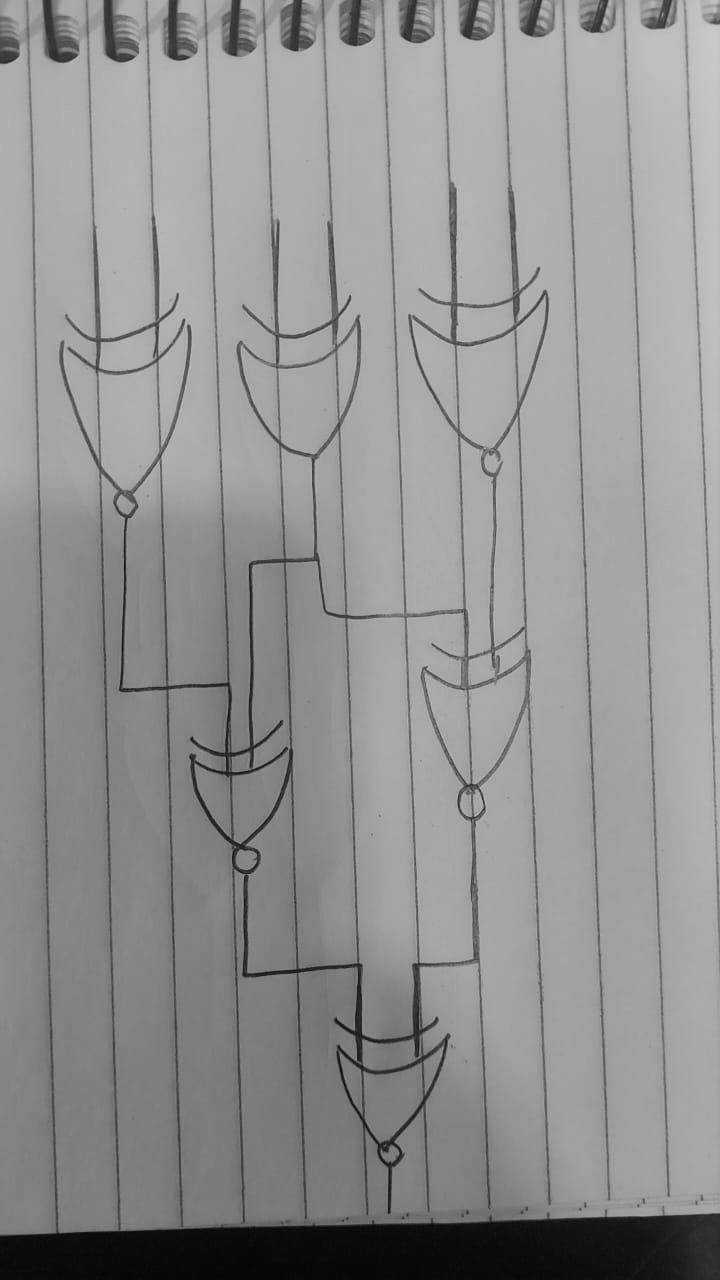XNOR: (52, 298, 222, 539), (401, 252, 567, 493), (402, 627, 585, 833), (173, 718, 346, 888), (320, 1005, 487, 1180)
XOR: (240, 284, 373, 492)
